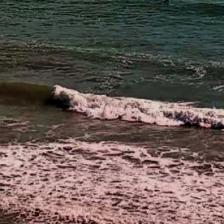surfer: (160, 0, 170, 6)
